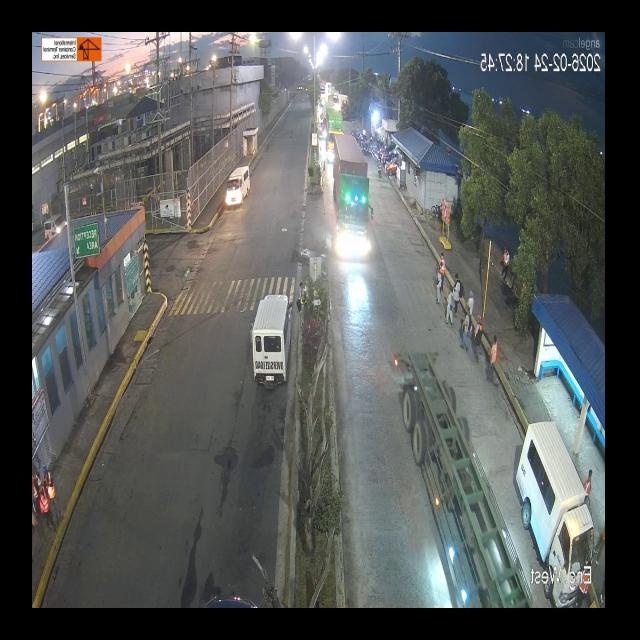car: (518, 434, 590, 558), (253, 284, 287, 401), (227, 158, 253, 215)
truck: (96, 344, 386, 603), (324, 129, 376, 266)
